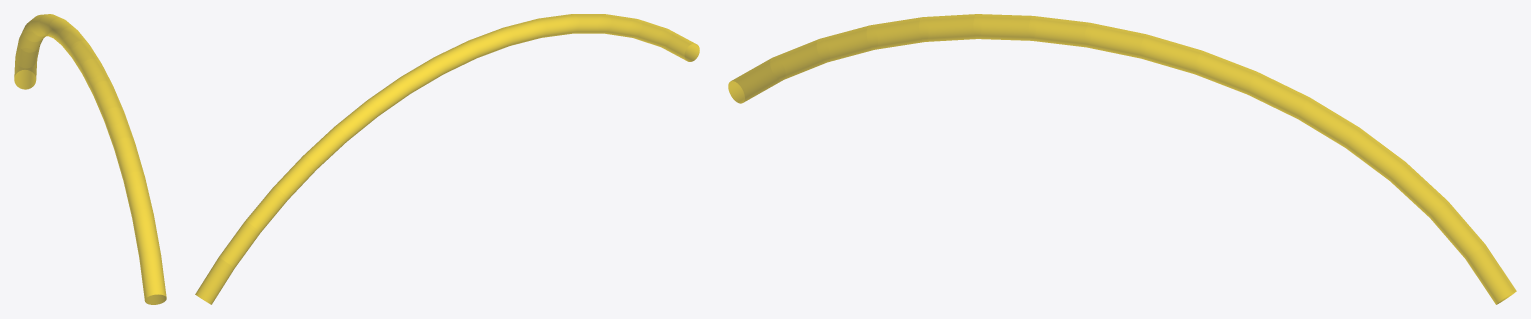
The model's file is Event_75125125_track_84.fbx.
3 views of the same model, side by side, from view 1: azimuth 30°, elevation 25°; view 2: azimuth 150°, elevation 25°; view 3: azimuth 270°, elevation 25° (orthographic). The views are drawn at different scales.
Parts seen in each view (by area): view 1: Model; view 2: Model; view 3: Model.
Boxes of the visible parts, x1,y1,x2,y2 form: Model: (14, 14, 166, 304); Model: (195, 14, 699, 304); Model: (728, 14, 1516, 304).
Bounding box in the file's own units: 0.4752 × 0.3814 × 1.26.
